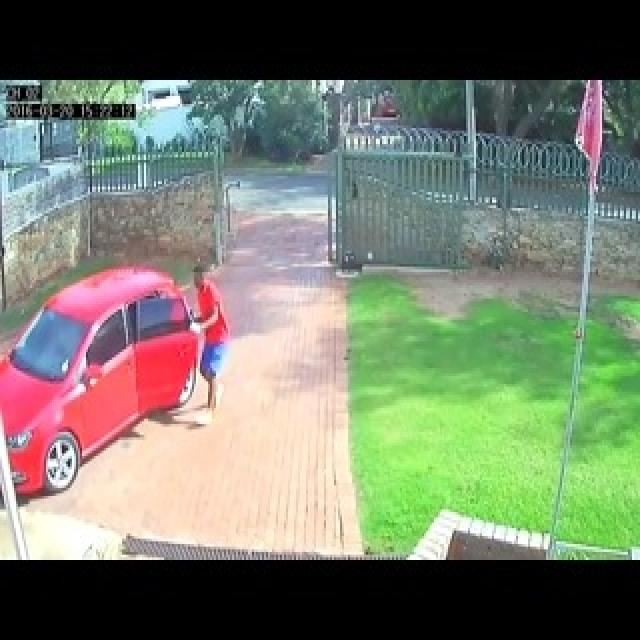thief: (179, 266, 225, 362)
